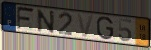2: (58, 12, 75, 37)
5: (118, 18, 133, 43)
F: (16, 6, 36, 32)
G: (96, 16, 115, 41)
N: (36, 8, 56, 35)
V: (76, 12, 96, 39)
